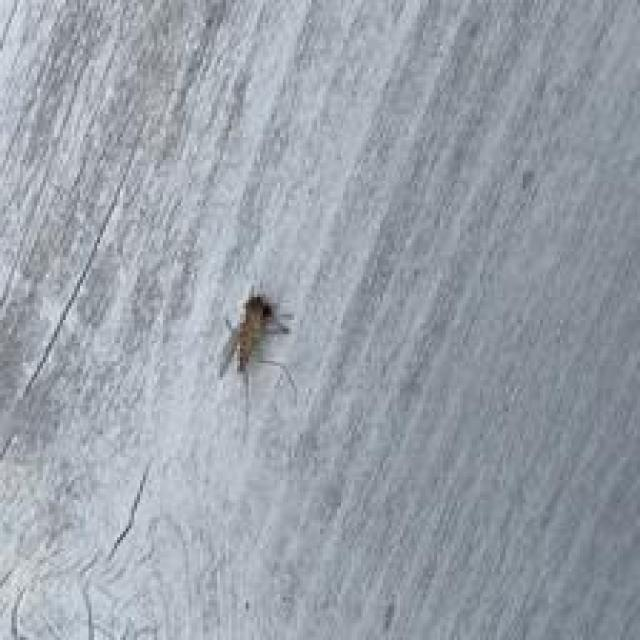Culex: (215, 284, 298, 410)
